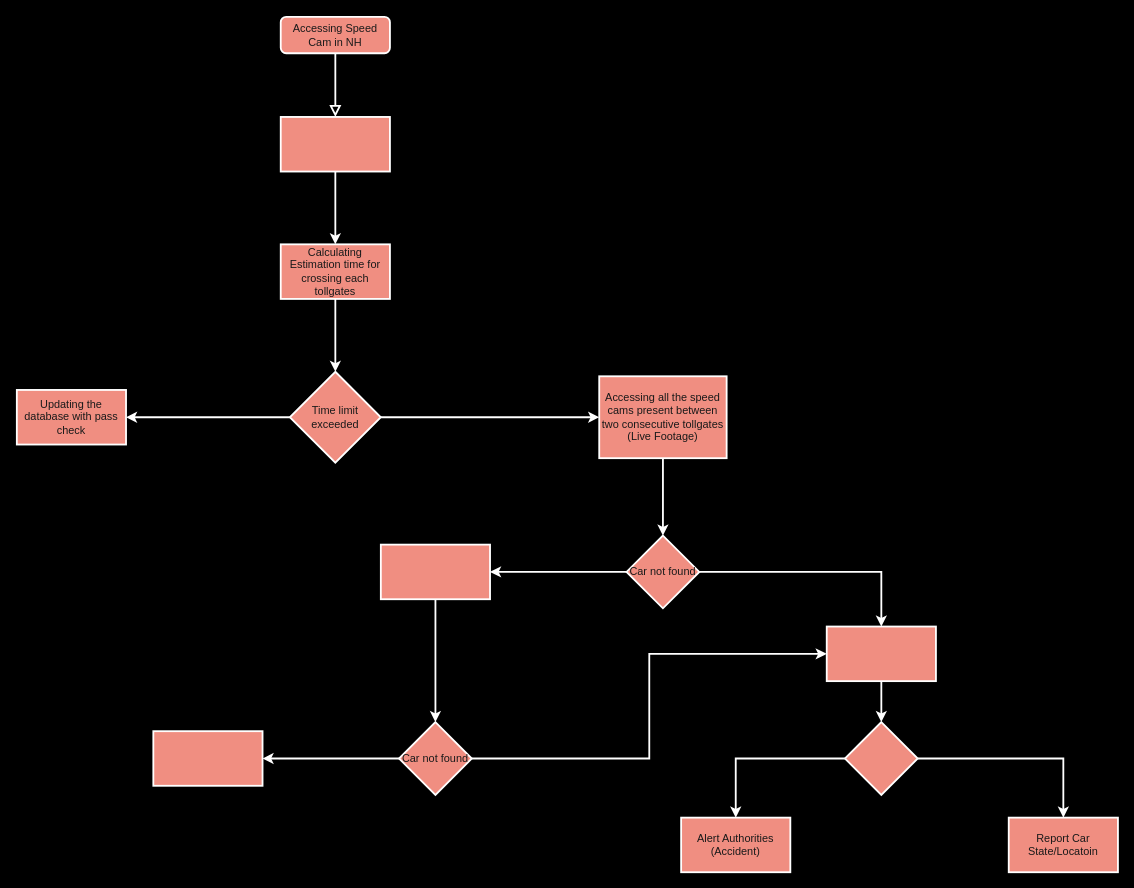
Image size: 1134x888. Some labels were removed from this diagram. The centre of each missing label's shape, as x and y in pixels:
"Accessing past few hours footage" goes at pixel 434 571.
"Accident" goes at pixel 881 758.
"Alert Authorities (Car not found)" goes at pixel 207 758.
"Detecting specific Car features/Number plates" goes at pixel 334 144.
"Ml Model to identify accidents" goes at pixel 880 653.
